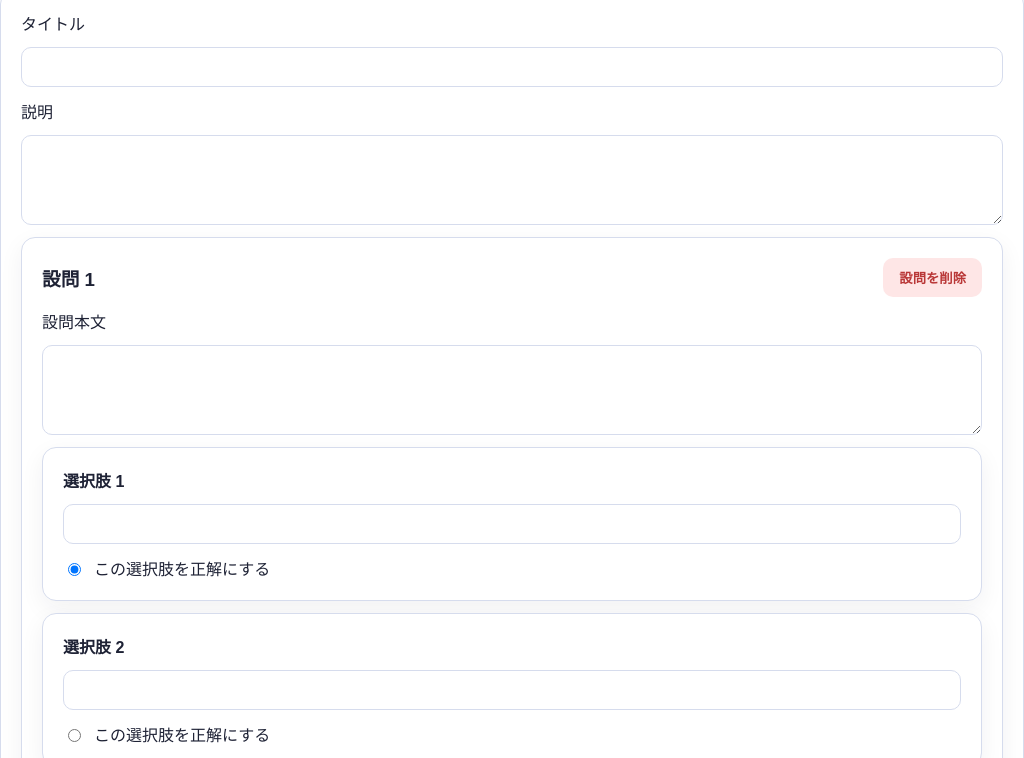
Test: CreateQuizForm › APIエラー時はエラーメッセージを表示する
The image size is (1024, 758).
Type "都道府県クイズ" into the field labelled "タイトル".
click(512, 67); type("都道府県クイズ")  # box [21, 47, 1003, 87]
Type "設問本文" into the text box labelled "設問本文".
click(512, 390); type("設問本文")  # box [42, 345, 982, 435]
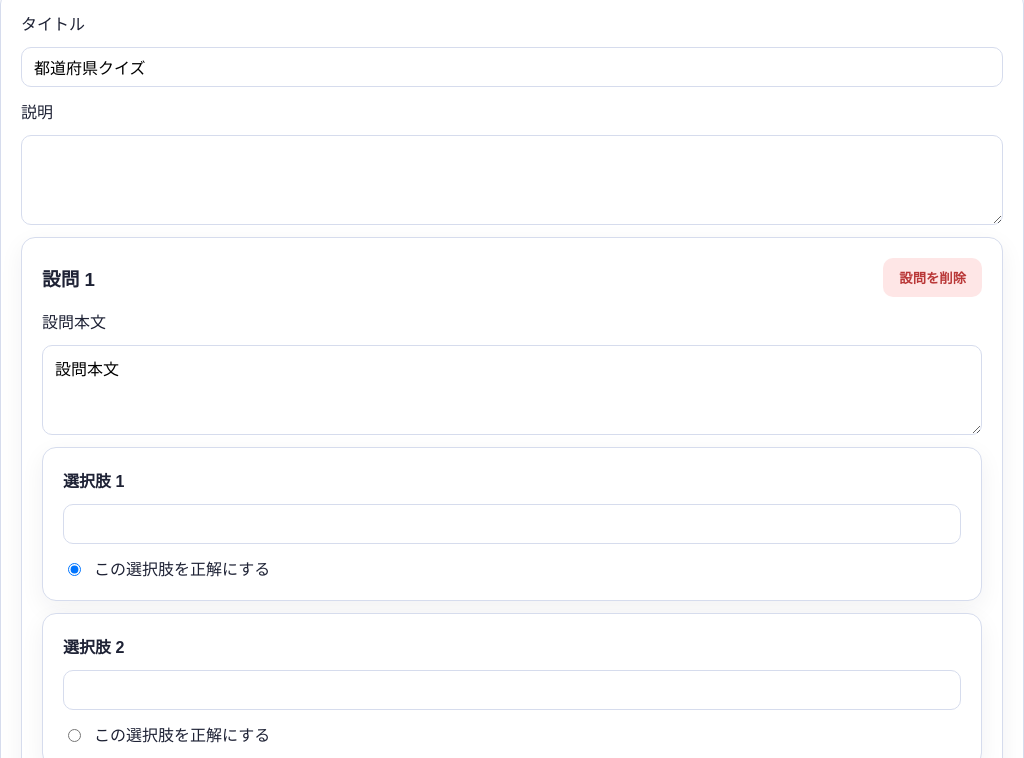
Type "選択肢A" into the 2nd field.
click(512, 524); type("選択肢A")  # box [63, 504, 961, 544]
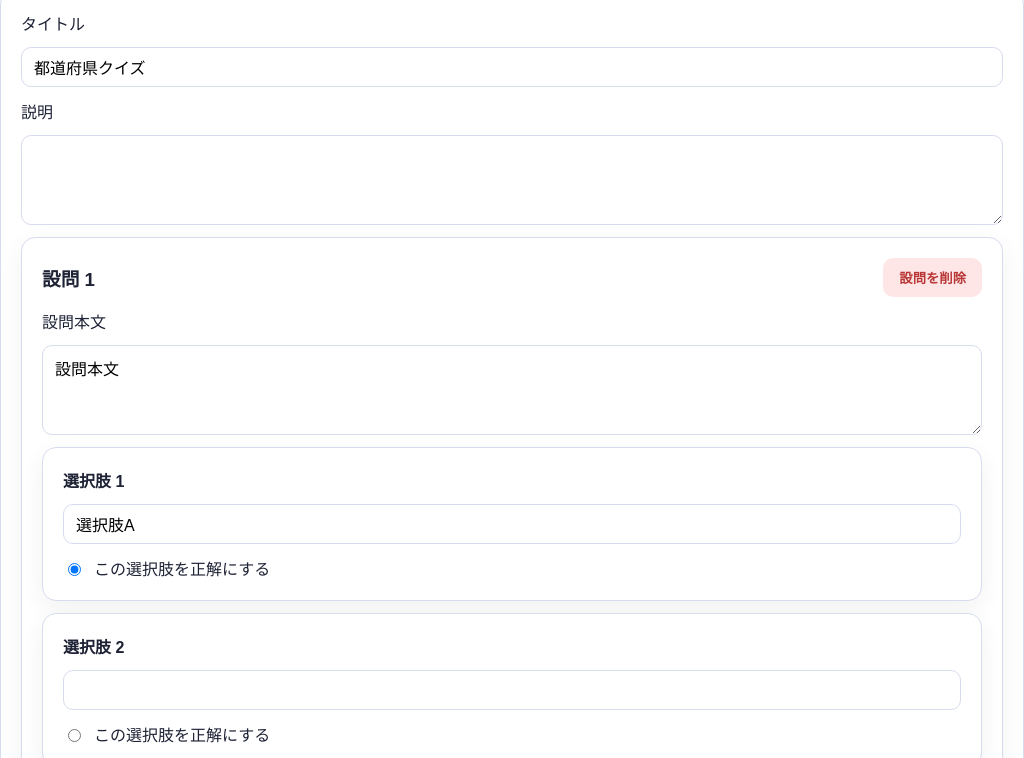
Type "選択肢B" into the 3rd field.
click(512, 690); type("選択肢B")  # box [63, 670, 961, 710]
(page scrolled)
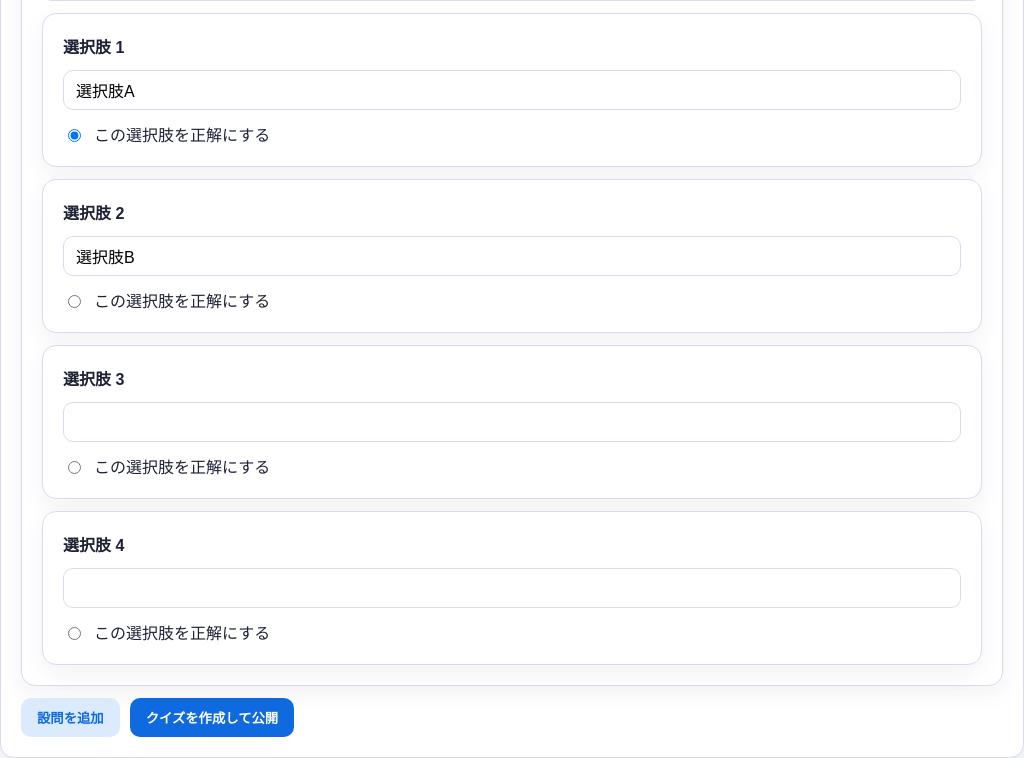
Type "選択肢C" into the 3rd field.
click(512, 422); type("選択肢C")  # box [63, 402, 961, 442]
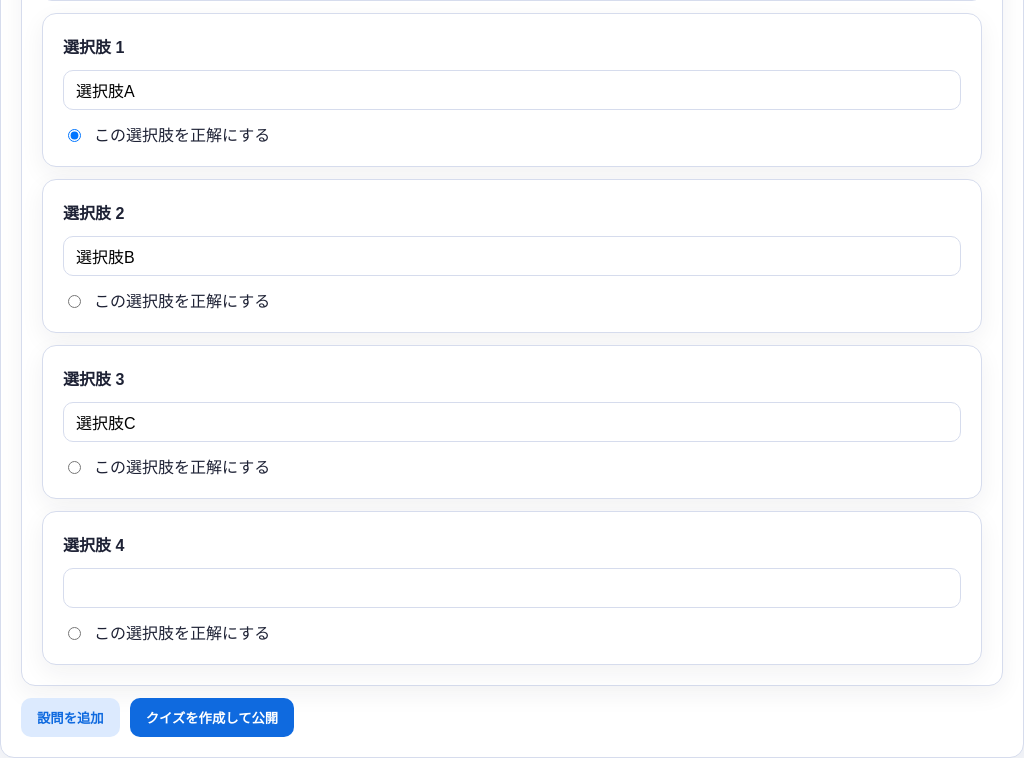
Type "選択肢D" into the 4th field.
click(512, 588); type("選択肢D")  # box [63, 568, 961, 608]
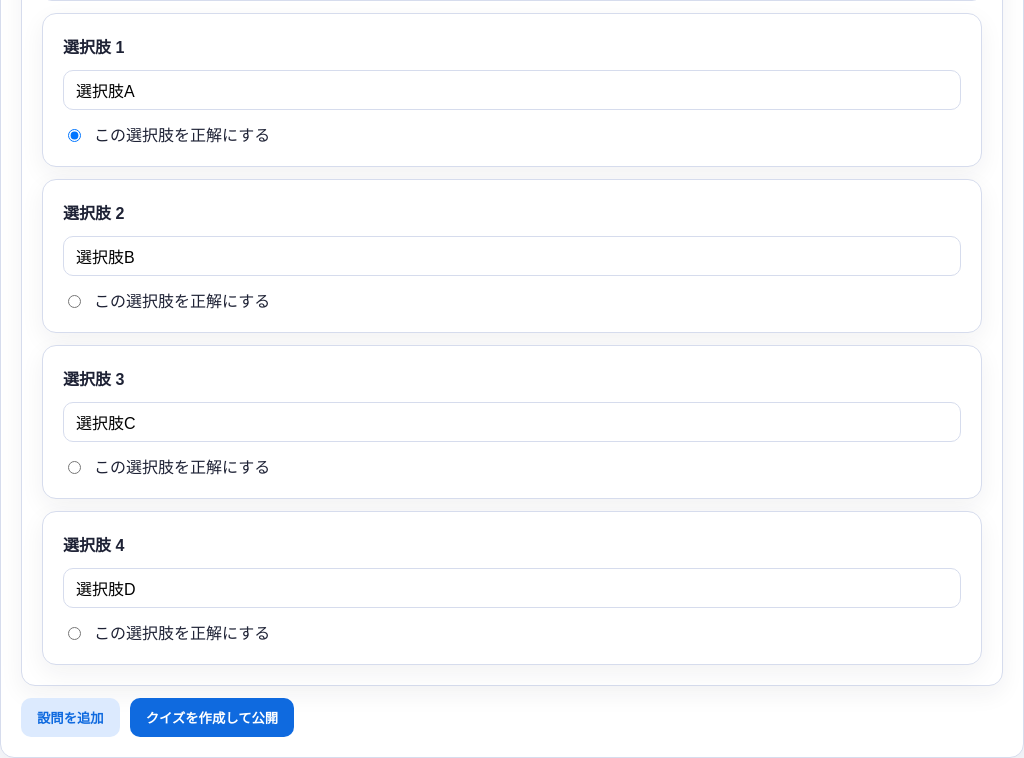
Click the button "クイズを作成して公開".
click(212, 718)  # box [130, 698, 294, 737]
(page scrolled)
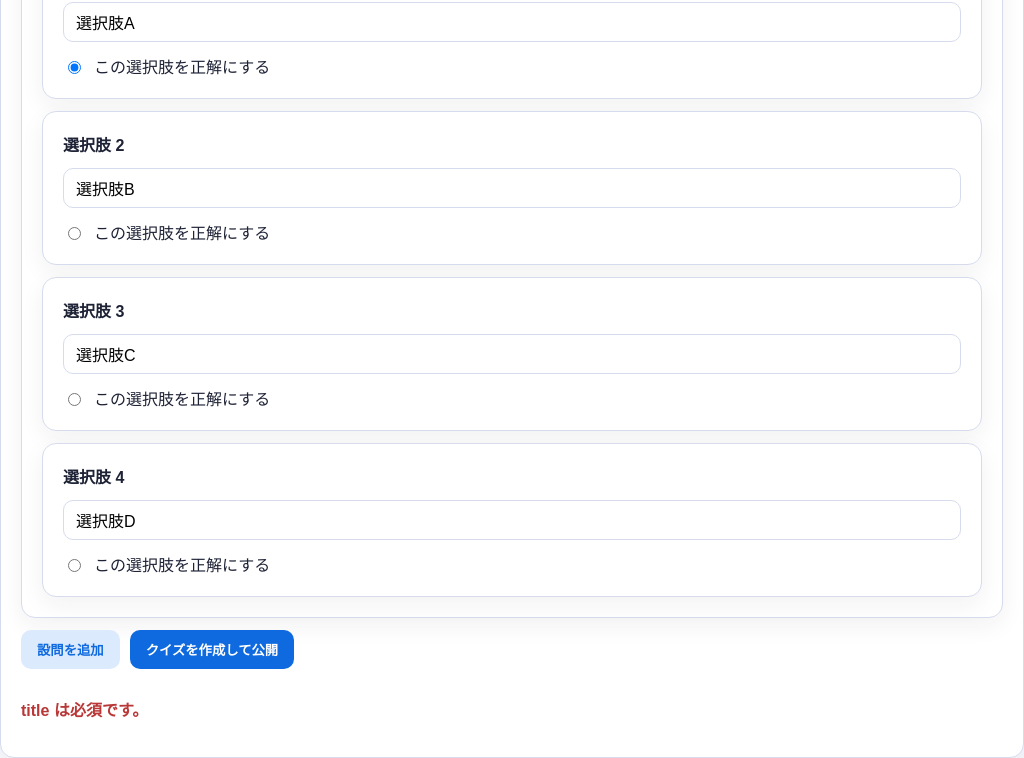
Now the text "title は必須です。" is shown, box [21, 702, 148, 719]
